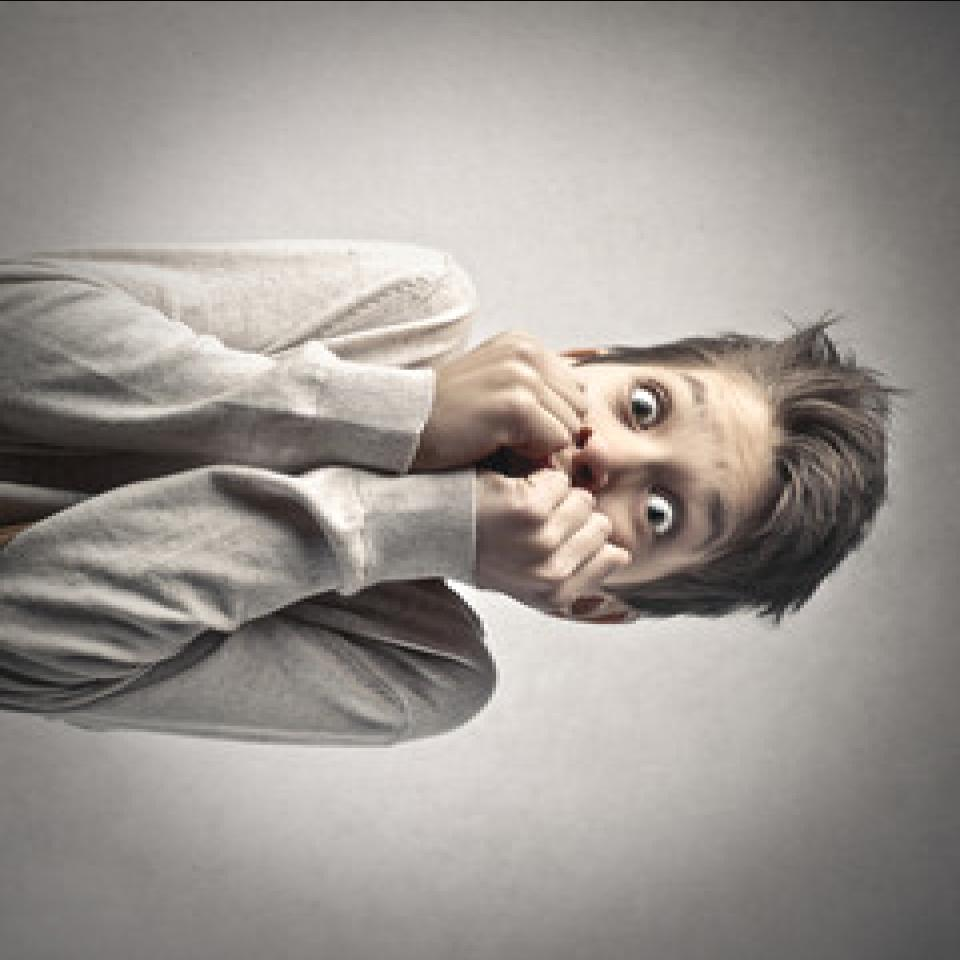Scared: (410, 338, 749, 606)
